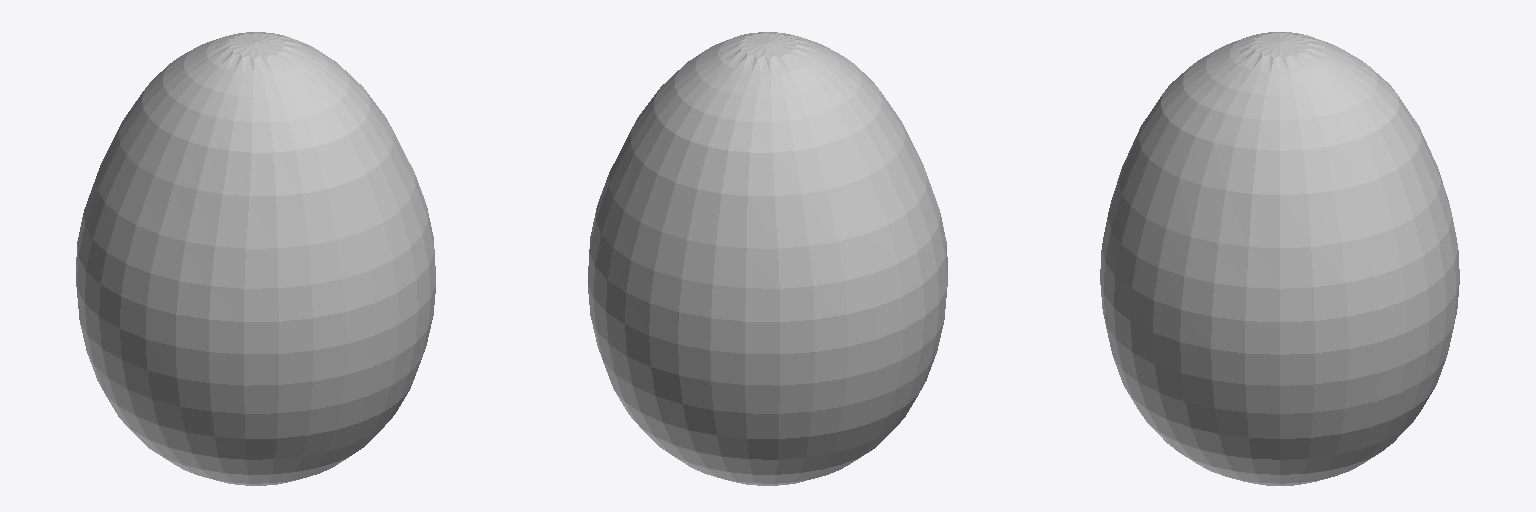
Rendered from huevo.obj.
3 renders of one model, left to right at view 1: azimuth 30°, elevation 25°; view 2: azimuth 150°, elevation 25°; view 3: azimuth 270°, elevation 25°, orthographic.
Visible parts, largest first — view 1: Egg_OBJ; view 2: Egg_OBJ; view 3: Egg_OBJ.
Part boxes in pixels (bbox=[...]): Egg_OBJ: bbox=[76, 32, 435, 485]; Egg_OBJ: bbox=[588, 32, 947, 485]; Egg_OBJ: bbox=[1100, 32, 1459, 485].
Size of the model in its own units: 8.86 by 11.51 by 8.8.